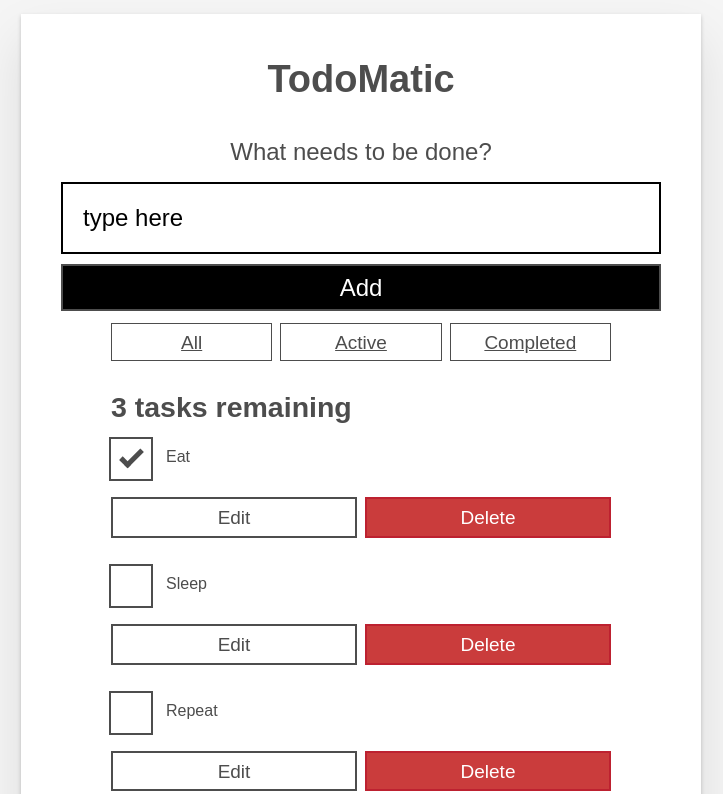
Rendering of the app › should decrease the number of tasks
This screenshot has width=723, height=794.
Click the button with test id "todo-1".
click(488, 644)  # box x1=365 y1=624 x2=611 y2=665
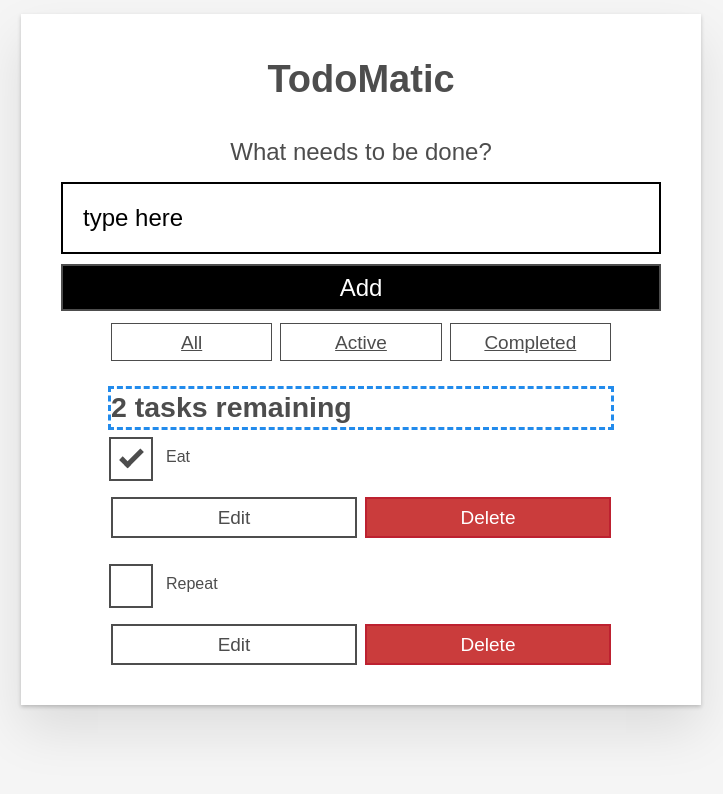
Check: the heading with test id "heading" reads "2 tasks remaining", box x1=111 y1=391 x2=352 y2=423
